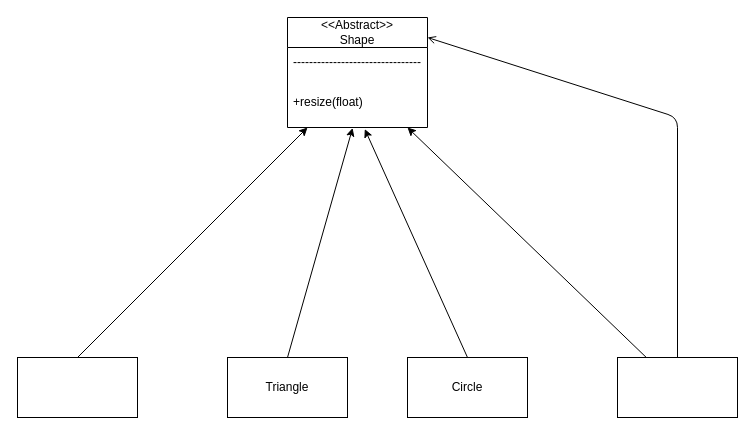
The diagram is 755 pixels wide and 435 high, and some of its shapes have lost their labels. Each missing label, with the box of its shape:
CompositeShape: (616, 356, 738, 418)
Square: (16, 356, 138, 418)
